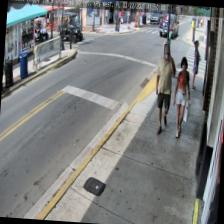person: (152, 42, 177, 134), (170, 56, 192, 137)
